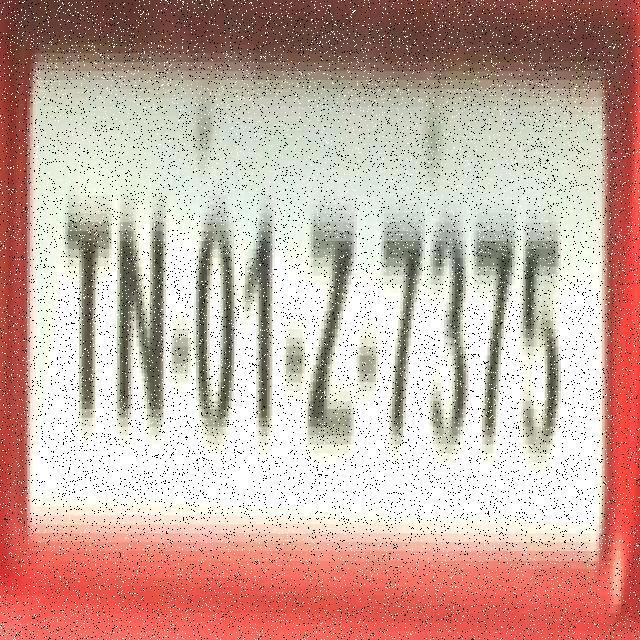LicensePlate: (18, 19, 622, 608)
